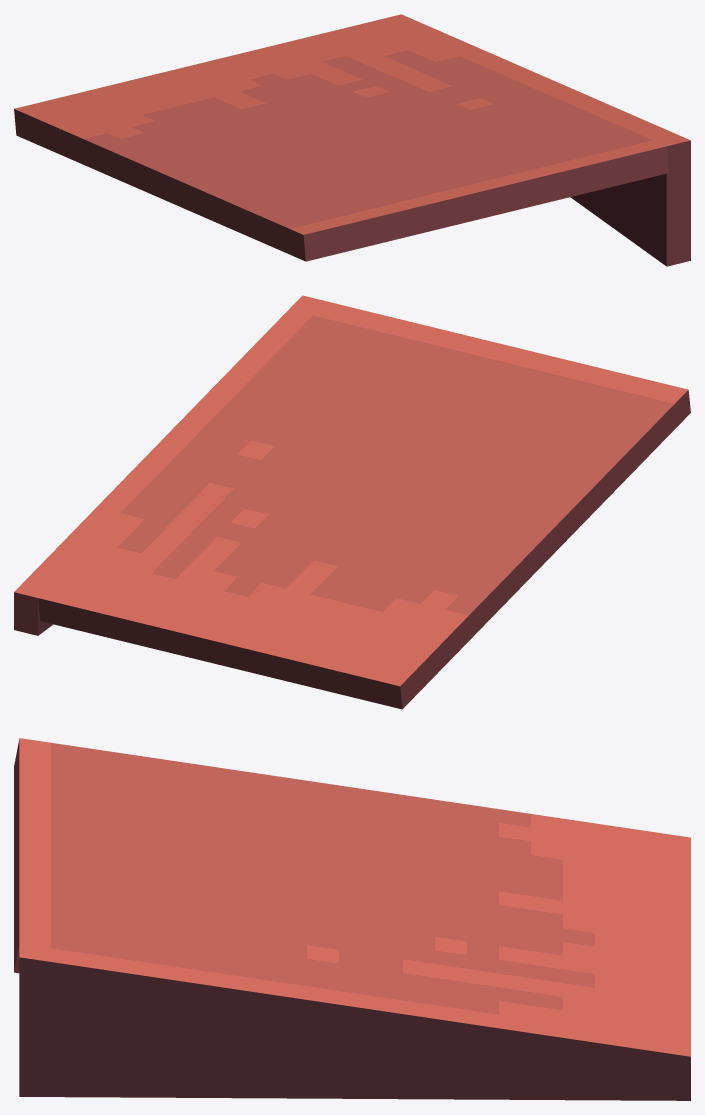
File: p31_roof.obj
3 views of the same model, one above another, from view 1: azimuth 30°, elevation 25°; view 2: azimuth 150°, elevation 25°; view 3: azimuth 270°, elevation 25° (orthographic). The views are drawn at different scales.
Visible parts, largest first — view 1: cube; view 2: cube; view 3: cube.
Boxes of the visible parts, x1,y1,x2,y2 form: cube: (14, 14, 690, 266); cube: (14, 295, 690, 709); cube: (14, 738, 690, 1100).
Size of the model in its own units: 1 by 0.3054 by 1.31.
